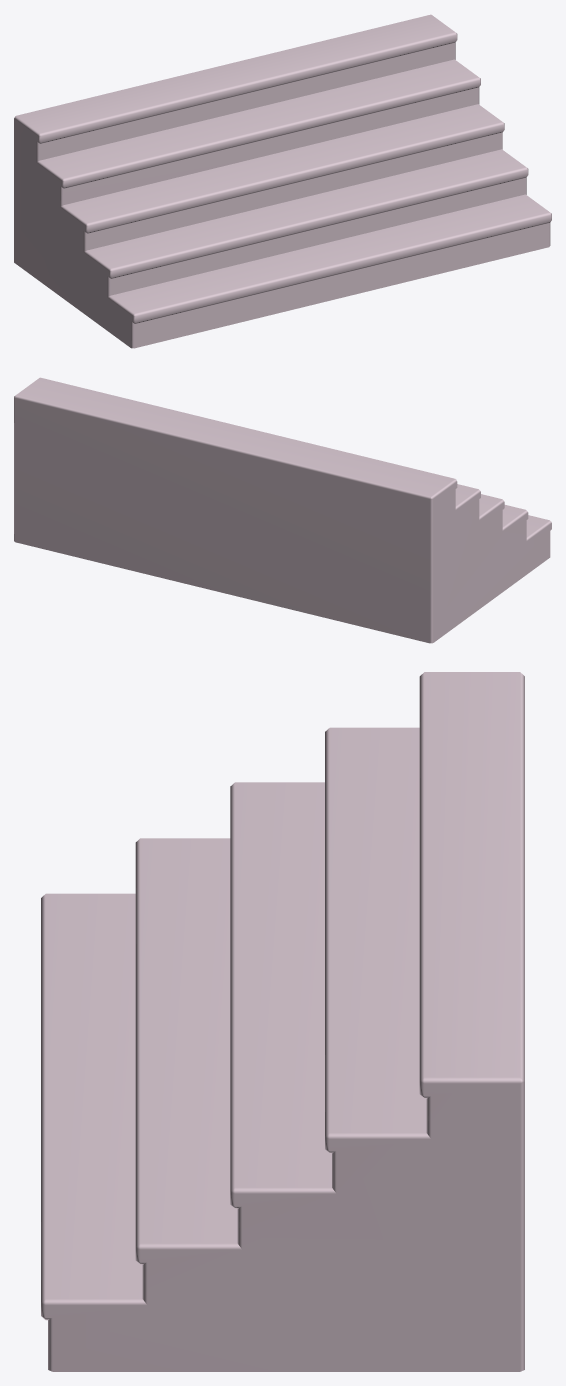
Rendered from mod_sc_roma_001_stairs_001.fbx.
3 renders of one model, top to bottom at view 1: azimuth 30°, elevation 25°; view 2: azimuth 150°, elevation 25°; view 3: azimuth 270°, elevation 25°, orthographic. The views are drawn at different scales.
Parts seen in each view (by area): view 1: mod_sc_roma_001_stairs_001; view 2: mod_sc_roma_001_stairs_001; view 3: mod_sc_roma_001_stairs_001.
Boxes of the visible parts, x1=… form: mod_sc_roma_001_stairs_001: x1=14, y1=14, x2=551, y2=348; mod_sc_roma_001_stairs_001: x1=14, y1=377, x2=551, y2=643; mod_sc_roma_001_stairs_001: x1=41, y1=672, x2=524, y2=1371.
Size of what is drawn, in the model's own units: 600 by 200 by 300.
